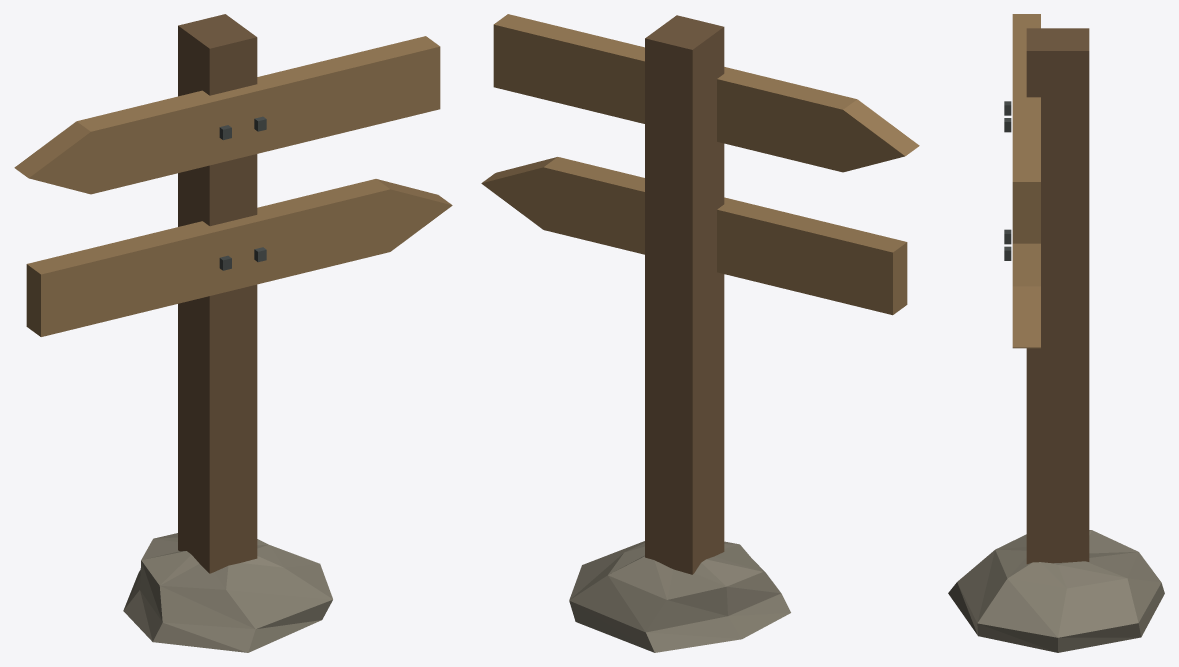
Rendered from guidepost.glb.
3 views of the same model, side by side, from view 1: azimuth 30°, elevation 25°; view 2: azimuth 150°, elevation 25°; view 3: azimuth 270°, elevation 25° (orthographic).
Parts seen in each view (by area): view 1: guidepost; view 2: guidepost; view 3: guidepost.
Boxes of the visible parts, bbox=[...] form: guidepost: bbox=[14, 14, 452, 652]; guidepost: bbox=[481, 14, 919, 652]; guidepost: bbox=[948, 14, 1164, 652].
Bounding box in the file's own units: 1.7 × 2.2 × 0.7644.
